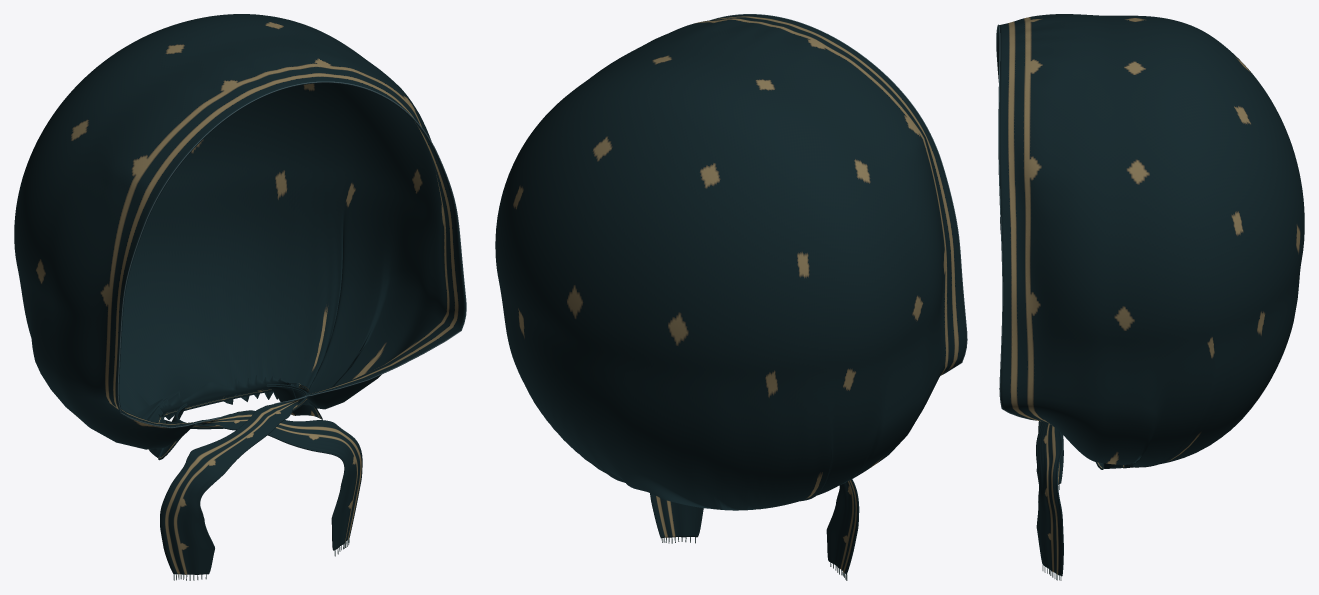
Rendered from Masculine-taper-shirtless-pashmina250-headgear.glb.
3 views of the same model, side by side, from view 1: azimuth 30°, elevation 25°; view 2: azimuth 150°, elevation 25°; view 3: azimuth 270°, elevation 25° (orthographic). The views are drawn at different scales.
Visible parts, largest first — view 1: 226 headgear / Headwear / continuous woven pashmina239, 226 headgear / Headwear / face edge239; view 2: 226 headgear / Headwear / continuous woven pashmina239, 226 headgear / Headwear / face edge239; view 3: 226 headgear / Headwear / continuous woven pashmina239, 226 headgear / Headwear / face edge239.
Part boxes in pixels (x1=…): 226 headgear / Headwear / continuous woven pashmina239: x1=14, y1=14, x2=465, y2=574; 226 headgear / Headwear / face edge239: x1=117, y1=81, x2=466, y2=428; 226 headgear / Headwear / continuous woven pashmina239: x1=495, y1=14, x2=966, y2=574; 226 headgear / Headwear / face edge239: x1=710, y1=14, x2=967, y2=375; 226 headgear / Headwear / continuous woven pashmina239: x1=996, y1=14, x2=1304, y2=576; 226 headgear / Headwear / face edge239: x1=996, y1=24, x2=1035, y2=420.
Bounding box in the file's own units: 1.07 × 1.38 × 0.7639.
Materials: 3 (1 with a texture image).
